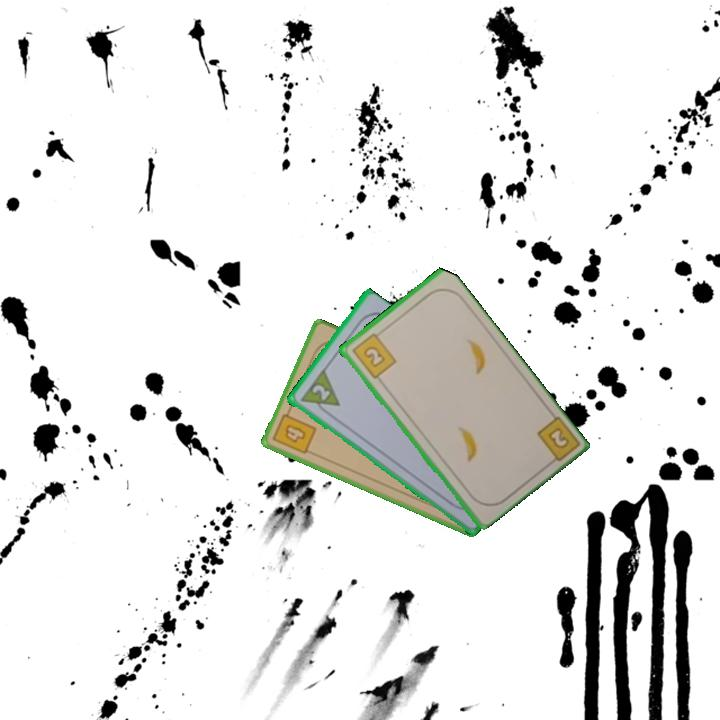2b: (348, 328, 399, 381), (533, 412, 580, 469)
2p: (308, 381, 333, 404)
4b: (269, 404, 319, 457)
